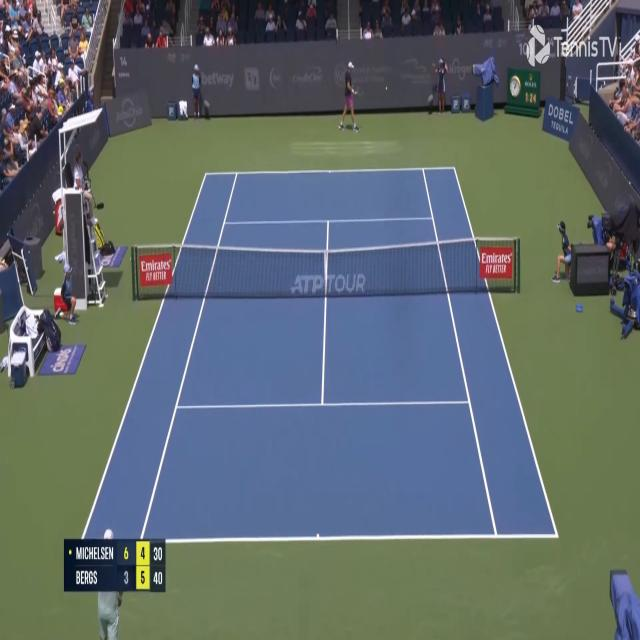tennis-player: (92, 519, 122, 640), (338, 59, 360, 135)
